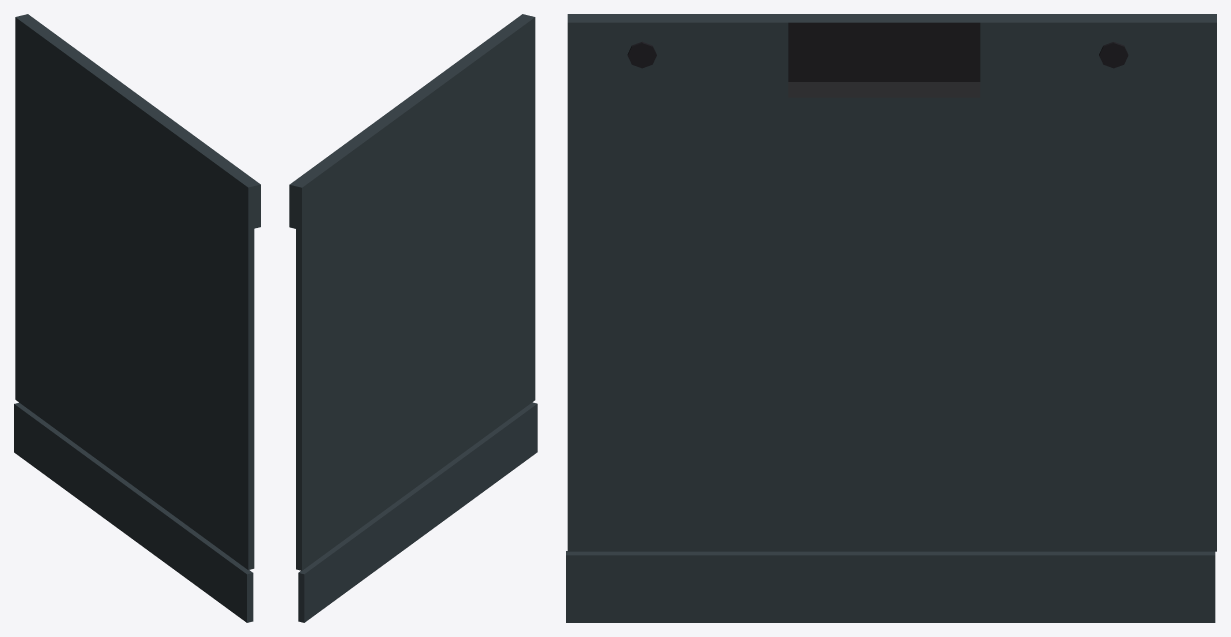
File: makinekapagi.fbx
3 renders of one model, left to right at view 1: azimuth 30°, elevation 25°; view 2: azimuth 150°, elevation 25°; view 3: azimuth 270°, elevation 25°, orthographic. The views are drawn at different scales.
Parts seen in each view (by area): view 1: Cube.095; view 2: Cube.095; view 3: Cube.095.
Part boxes in pixels (x1,y1,x2,y2): Cube.095: [14, 14, 260, 622]; Cube.095: [289, 14, 537, 622]; Cube.095: [566, 14, 1216, 622].
Bounding box in the file's own units: 15.23 × 388 × 378.
1 material, 1 textured.
